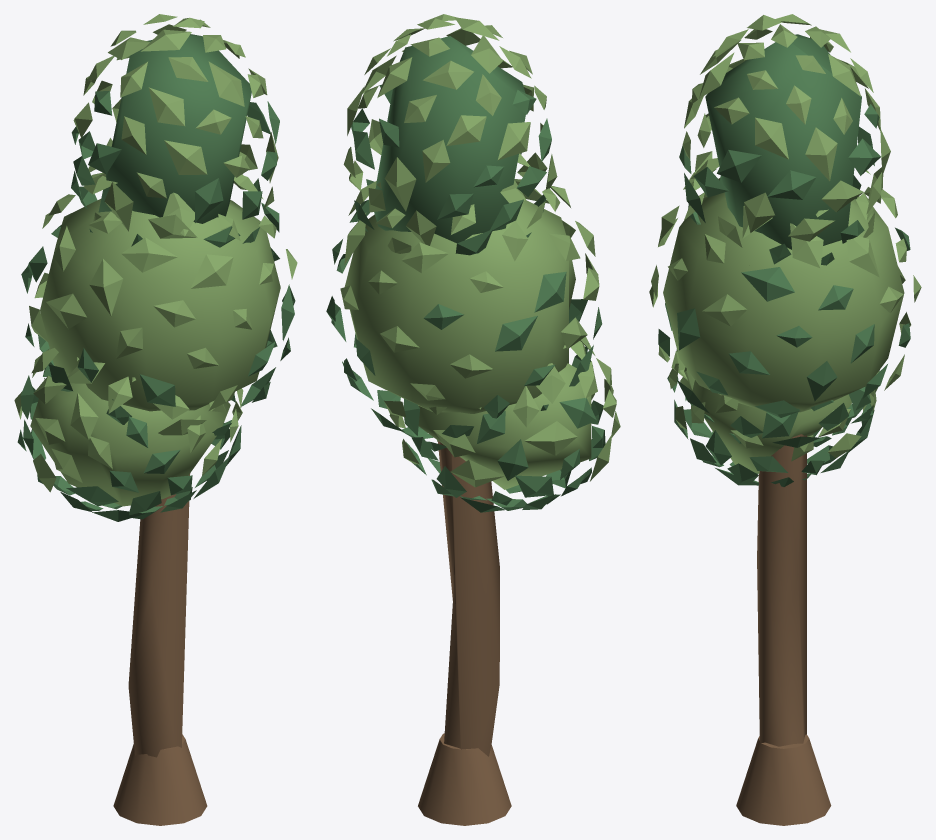
Rendered from tree.tall-far.glb.
The picture shows the model from 3 angles, left to right: view 1: azimuth 30°, elevation 25°; view 2: azimuth 150°, elevation 25°; view 3: azimuth 270°, elevation 25°; orthographic projection.
Visible parts, largest first — view 1: Root flare; view 2: Root flare; view 3: Root flare.
Boxes of the visible parts, x1=… form: Root flare: x1=14, y1=14, x2=297, y2=825; Root flare: x1=326, y1=14, x2=620, y2=825; Root flare: x1=649, y1=14, x2=921, y2=825.
Size of the model in its own units: 0.8848 by 2.57 by 0.8014.
